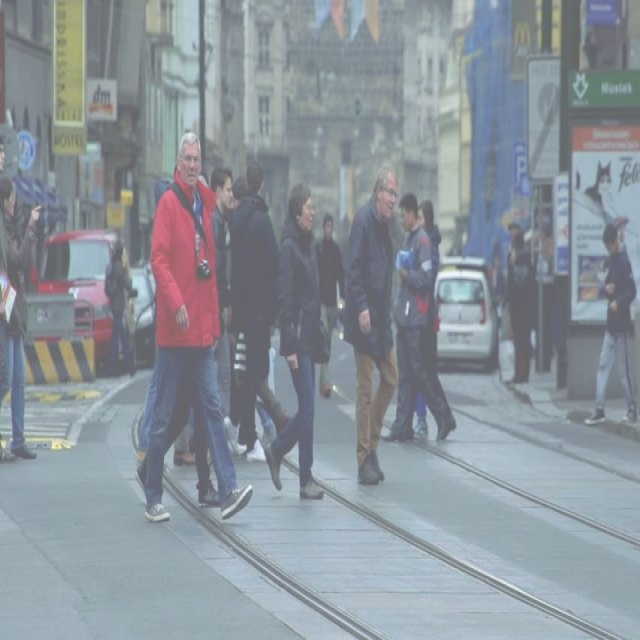pessoa: (140, 127, 254, 530), (262, 178, 333, 504), (378, 188, 459, 446), (342, 160, 400, 487), (230, 157, 282, 466), (0, 172, 43, 466), (582, 220, 639, 430), (410, 198, 443, 442), (163, 380, 222, 507), (492, 221, 536, 388), (210, 164, 234, 418), (102, 238, 139, 380), (318, 212, 346, 399), (132, 342, 159, 500), (253, 389, 277, 444), (0, 280, 7, 400), (230, 173, 248, 212), (0, 130, 7, 174), (197, 168, 210, 189)
